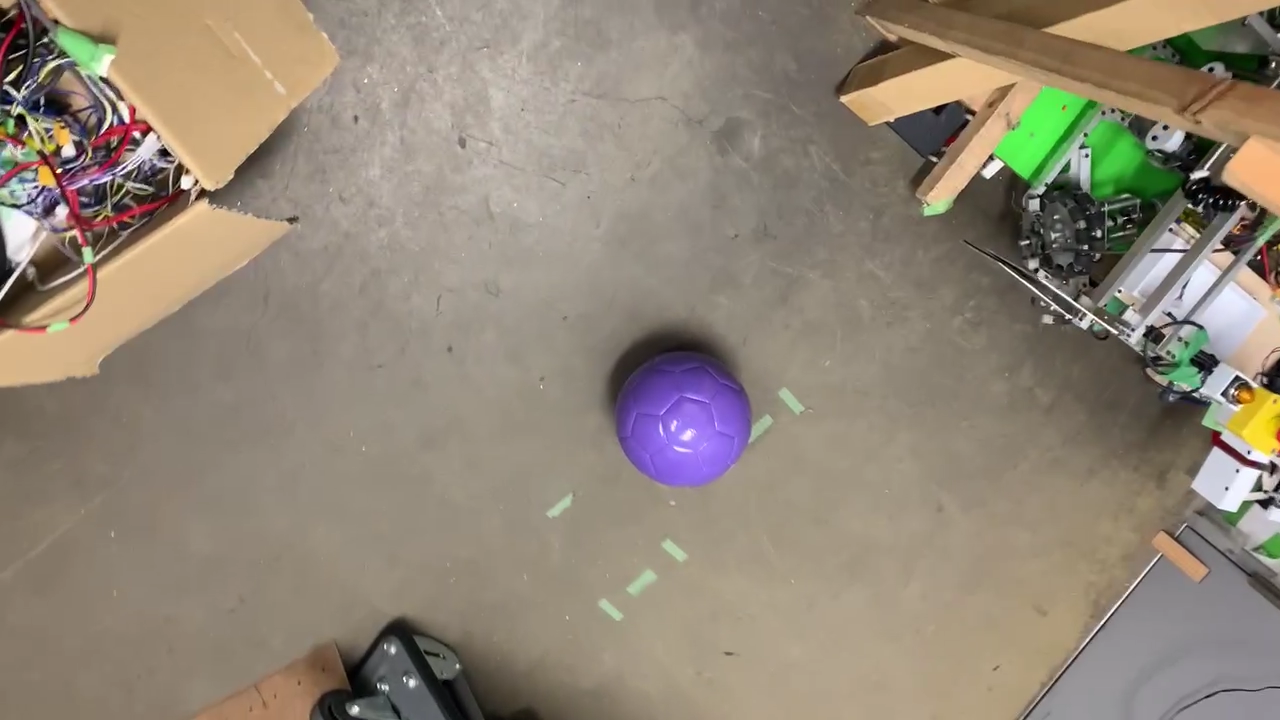purple: (615, 351, 753, 486)
